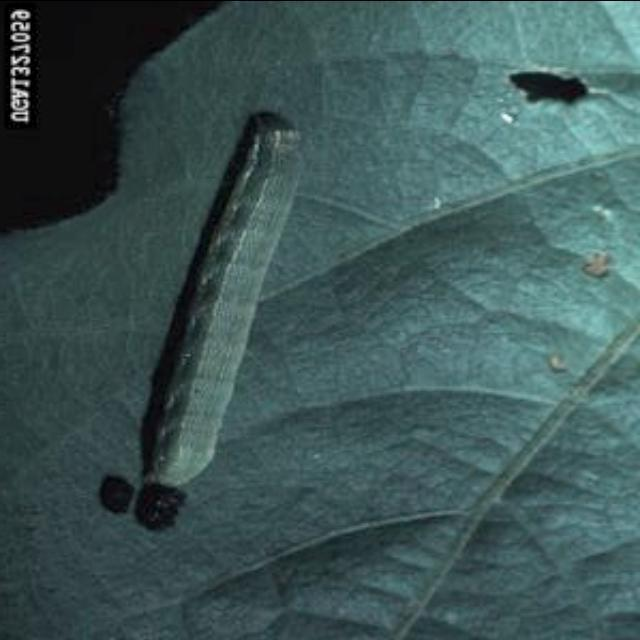Beet armyworm: (81, 88, 365, 558)
